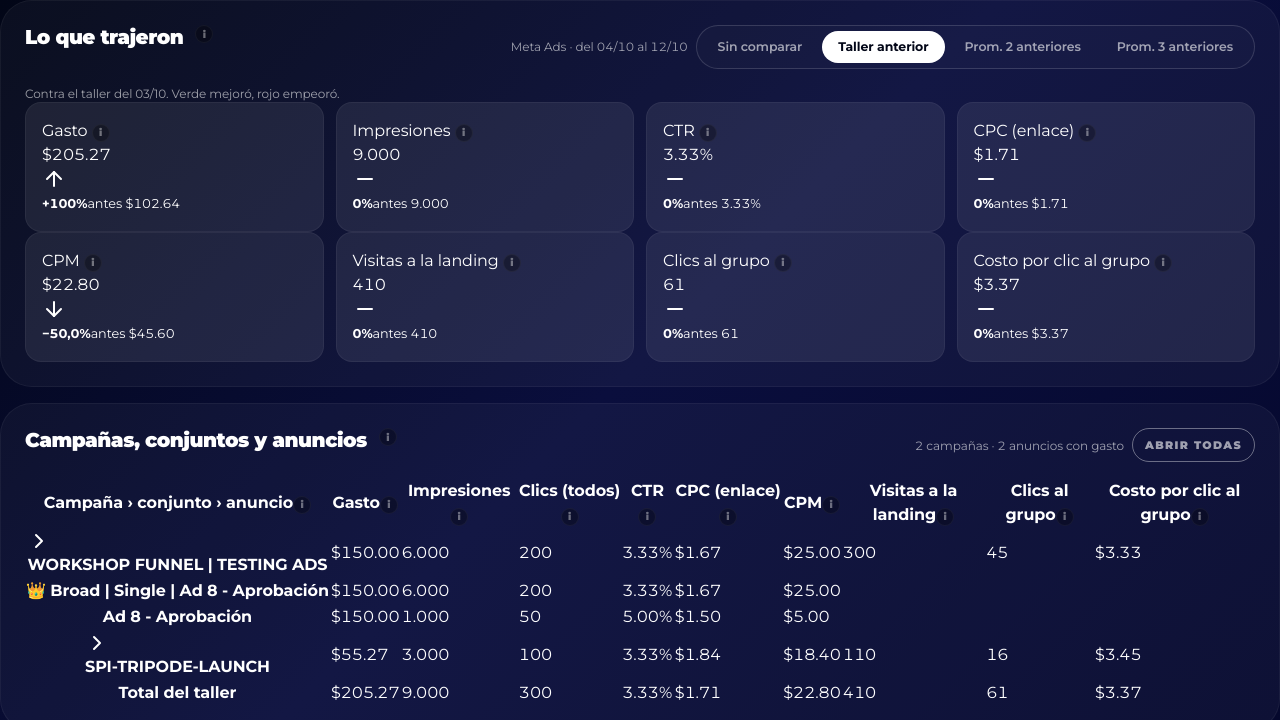
Test case: Workshop › Talleres › Anuncios del taller › comparación contra los talleres anteriores › el promedio ignora al taller que no tuvo anuncios con gasto
Expected: the text "Ad 8 - Aprobación" is shown, [103,607,252,626]
Click the tab "Prom. 3 anteriores" at (1175, 47), box [1101,31,1249,63]
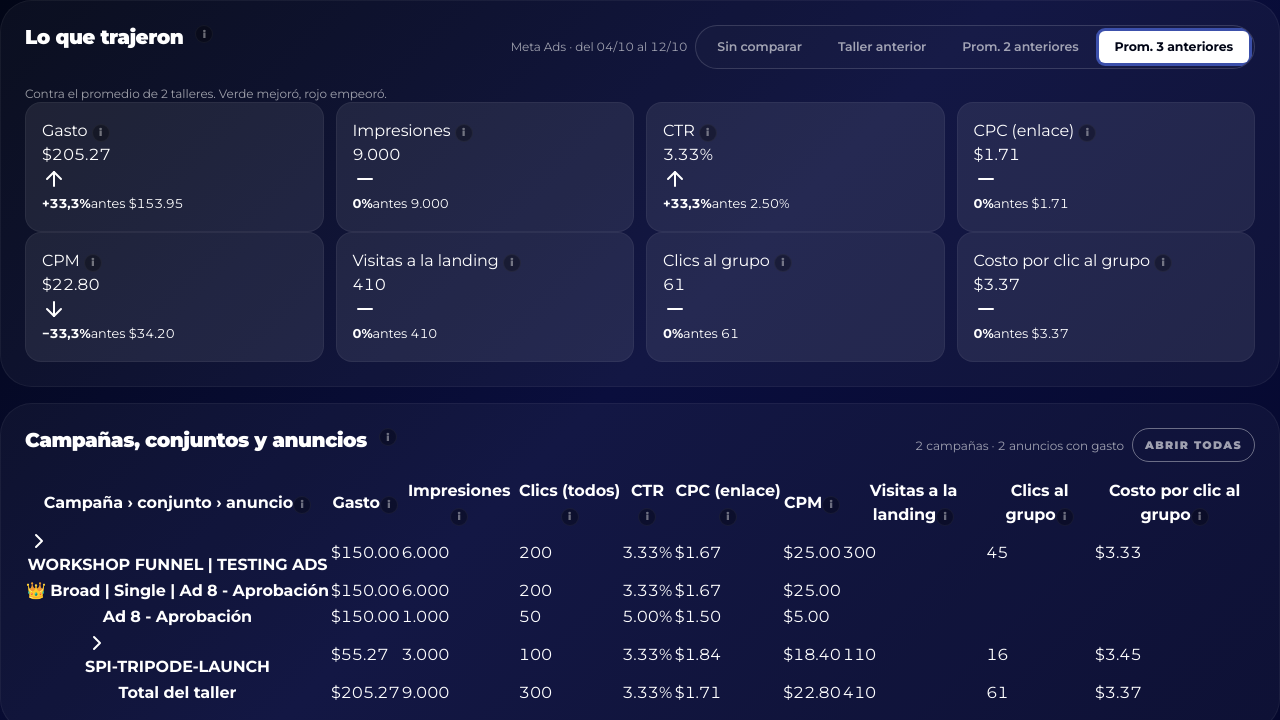
Now the text "promedio de 2 talleres" is shown, box [25,86,387,101]
